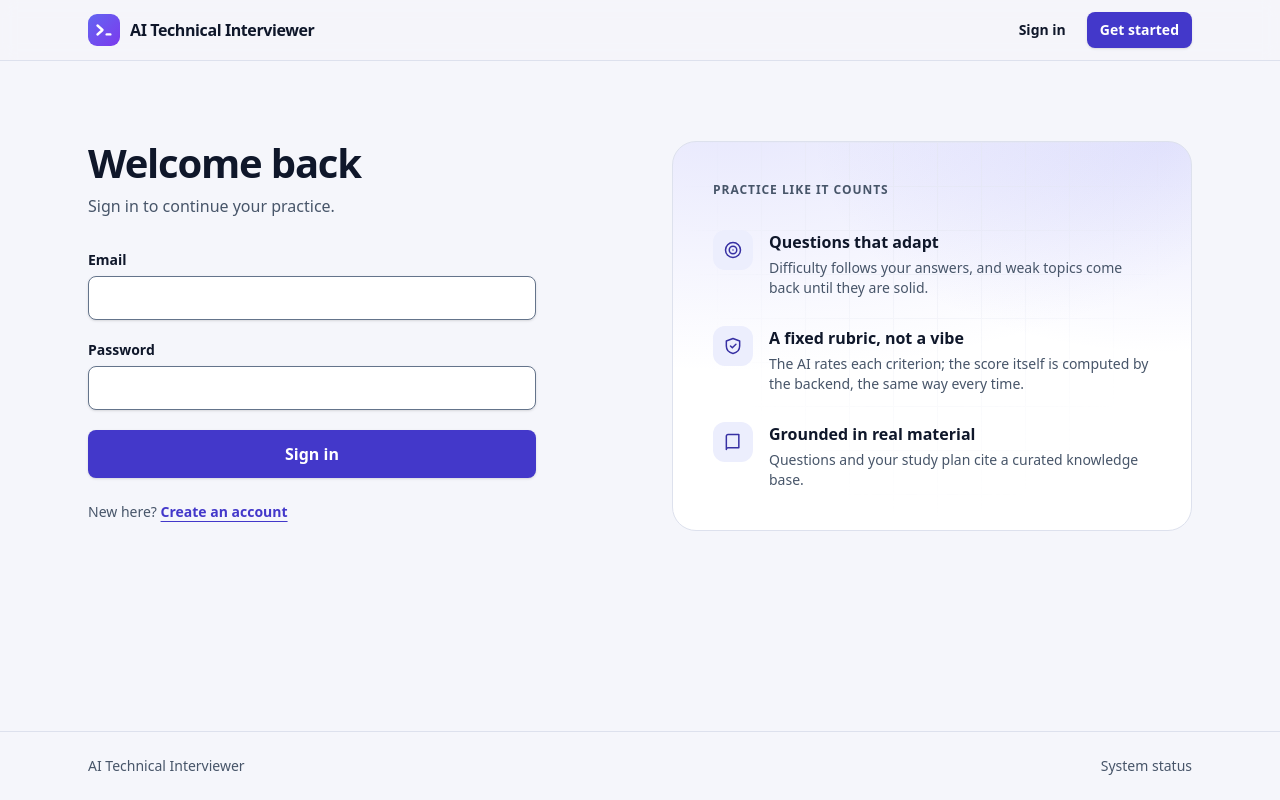
it: LoginPage › says the credentials are wrong without saying which part
Type "ada@example.com" into the field labelled "Email" at (312, 298), box [88,276,536,320]
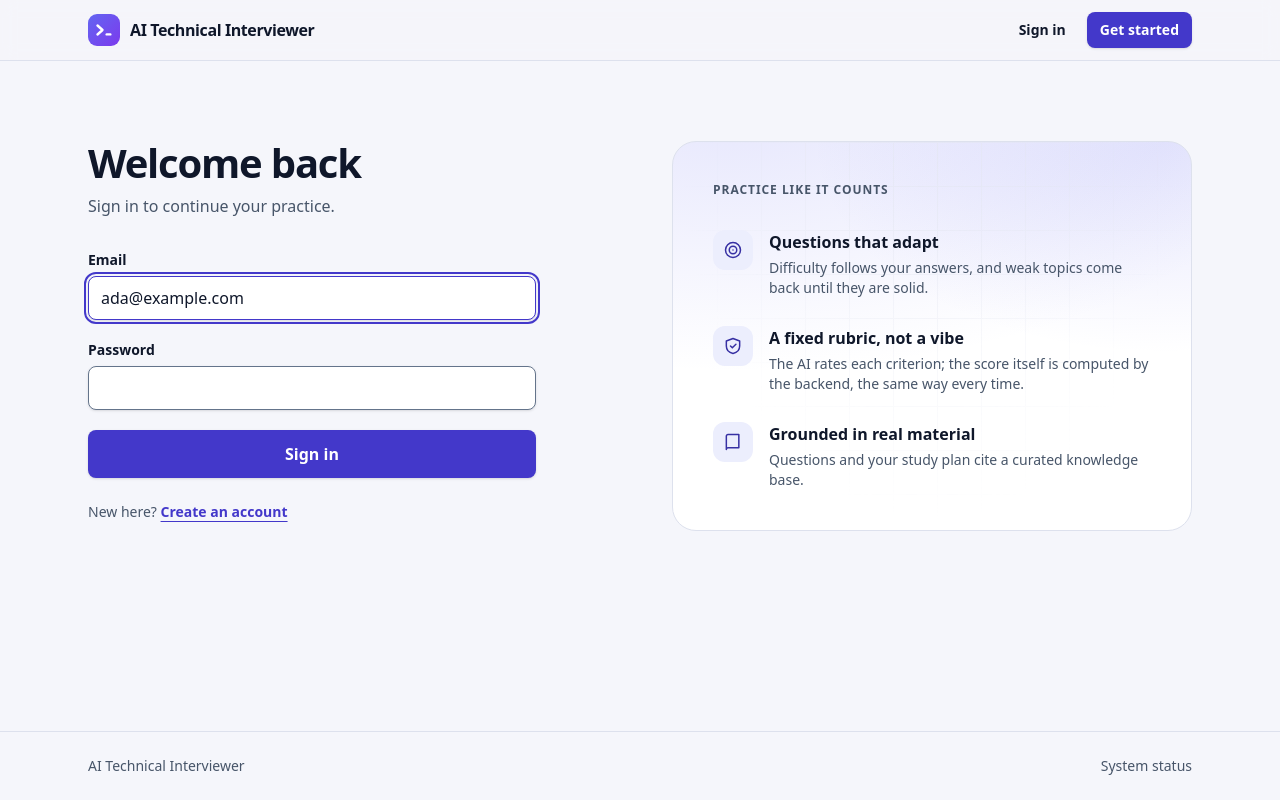
Type "wrong-password" into the password field labelled "Password" at (312, 388), box [88,366,536,410]
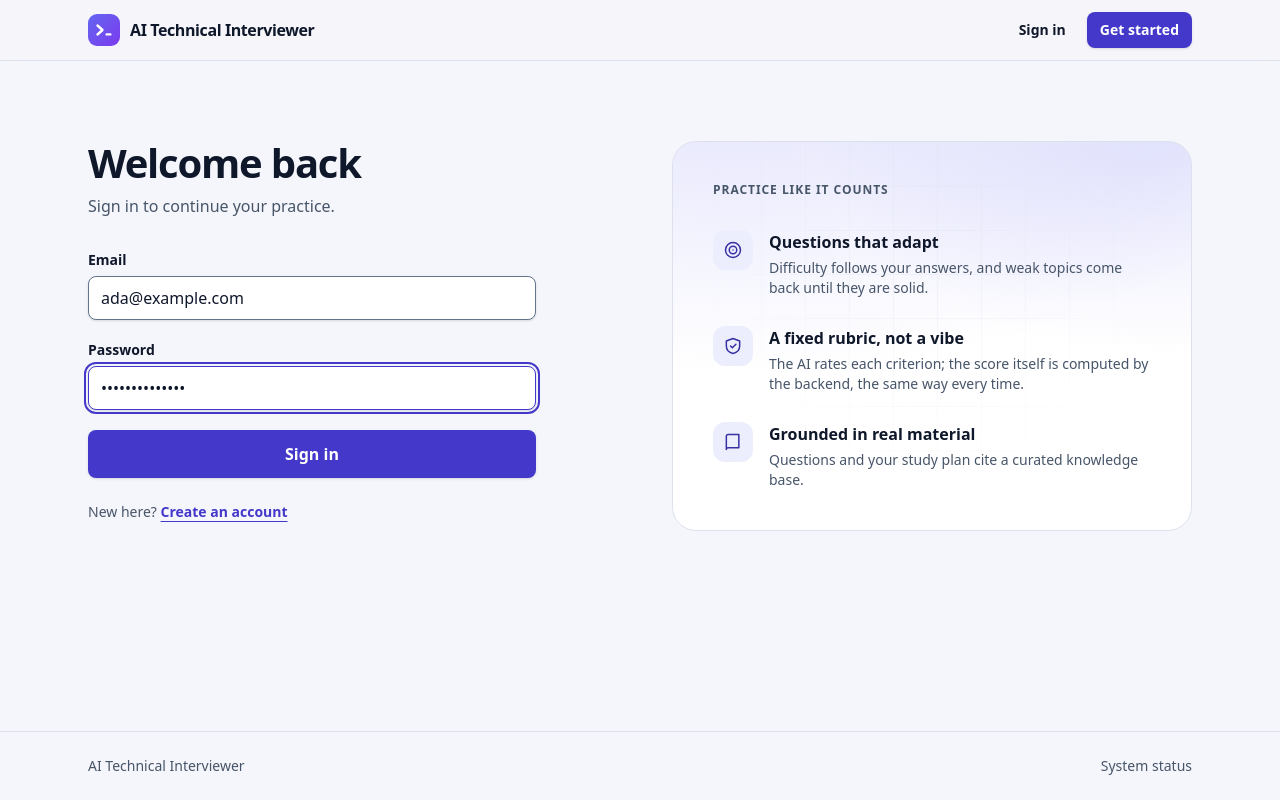
Click the button "Sign in" at (312, 454), box [88,430,536,478]
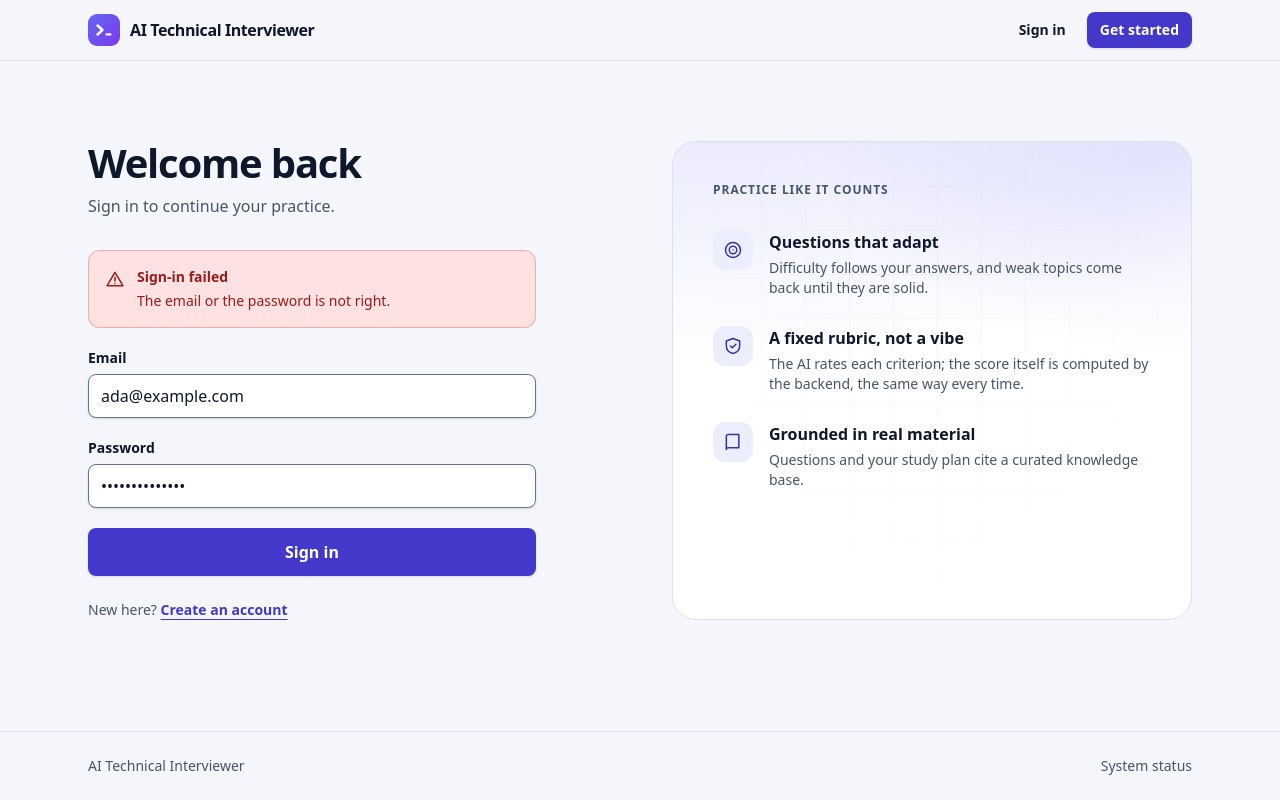
Expected: the button "Sign in" is enabled, [88,528,536,576]
Result: the message shows "The email or the password is not right." at [137,291,390,310]
